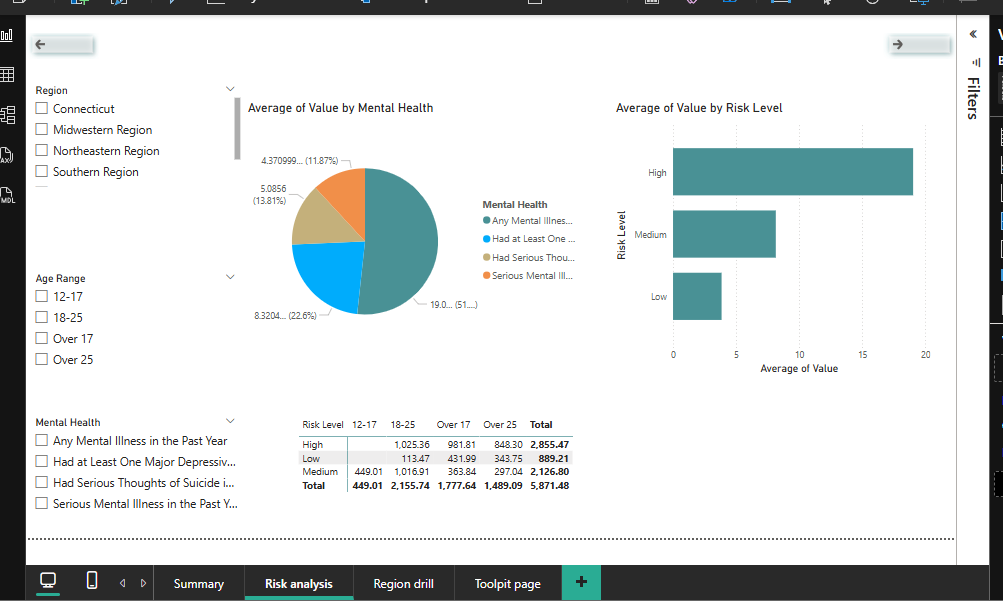

The dashboard page shown, as its layout file describes it:
{"tool":"powerbi","page":{"name":"Risk analysis","canvas":[1280,720],"ordinal":1},"visuals":[{"type":"textbox","box":[378.5,220.2,280.8,279.4],"z":0},{"type":"pieChart","fields":{"Y":["Avg(cleaned_mental_health_data.Value)"],"Category":["cleaned_mental_health_data.Mental Health"]},"box":[300,117,472.1,370.2],"z":1000},{"type":"barChart","fields":{"Category":["cleaned_mental_health_data.Risk Level"],"Y":["Avg(cleaned_mental_health_data.Value)"]},"box":[806.5,117,443.2,382.6],"z":2000},{"type":"pivotTable","fields":{"Rows":["cleaned_mental_health_data.Risk Level"],"Columns":["cleaned_mental_health_data.Age Range"],"Values":["Sum(cleaned_mental_health_data.Value)"]},"box":[370.2,547.8,871.2,121.1],"z":3000},{"type":"slicer","fields":{"Values":["cleaned_mental_health_data.Region"]},"box":[0,91,300,150],"z":4000},{"type":"slicer","fields":{"Values":["cleaned_mental_health_data.Age Range"]},"box":[0,349.6,300,150],"z":5000},{"type":"slicer","fields":{"Values":["cleaned_mental_health_data.Mental Health"]},"box":[0,547.8,300,150],"z":6000},{"type":"actionButton","box":[0,20.6,100.5,39.9],"z":7000},{"type":"actionButton","box":[1179.5,20.6,100.5,39.9],"z":8000}]}

Visuals, with their boxes on the page's 1280x720 design canvas (x1, y1, x2, y2). These are canvas units, not pixel positions in the 1003x601 screenshot, which may show the page scaled, cropped or inside an application window:
textbox: <bbox>378, 220, 659, 500</bbox>
pieChart - Avg(cleaned_mental_health_data.Value) x cleaned_mental_health_data.Mental Health: <bbox>300, 117, 772, 487</bbox>
barChart - cleaned_mental_health_data.Risk Level x Avg(cleaned_mental_health_data.Value): <bbox>806, 117, 1250, 500</bbox>
pivotTable - cleaned_mental_health_data.Risk Level x cleaned_mental_health_data.Age Range: <bbox>370, 548, 1241, 669</bbox>
slicer - cleaned_mental_health_data.Region: <bbox>0, 91, 300, 241</bbox>
slicer - cleaned_mental_health_data.Age Range: <bbox>0, 350, 300, 500</bbox>
slicer - cleaned_mental_health_data.Mental Health: <bbox>0, 548, 300, 698</bbox>
actionButton: <bbox>0, 21, 100, 60</bbox>
actionButton: <bbox>1180, 21, 1280, 60</bbox>
